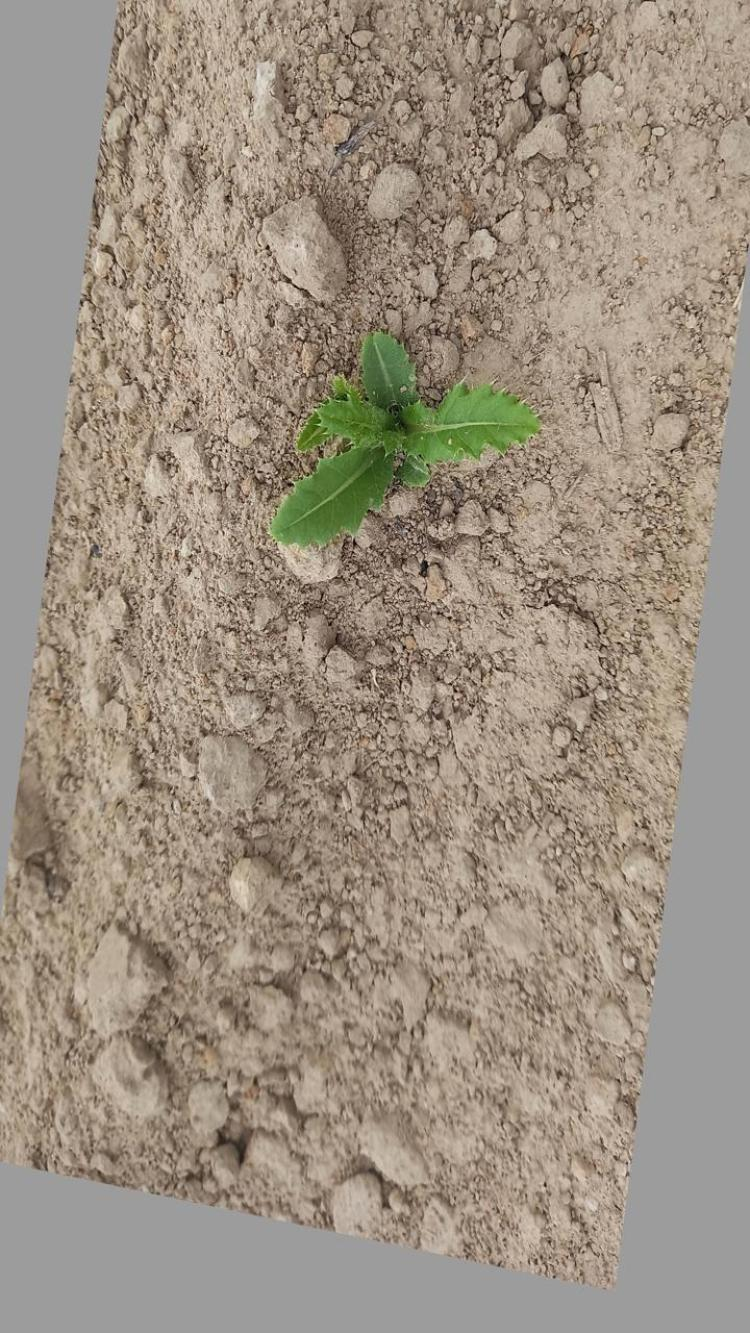bodyak: (262, 327, 540, 564)
